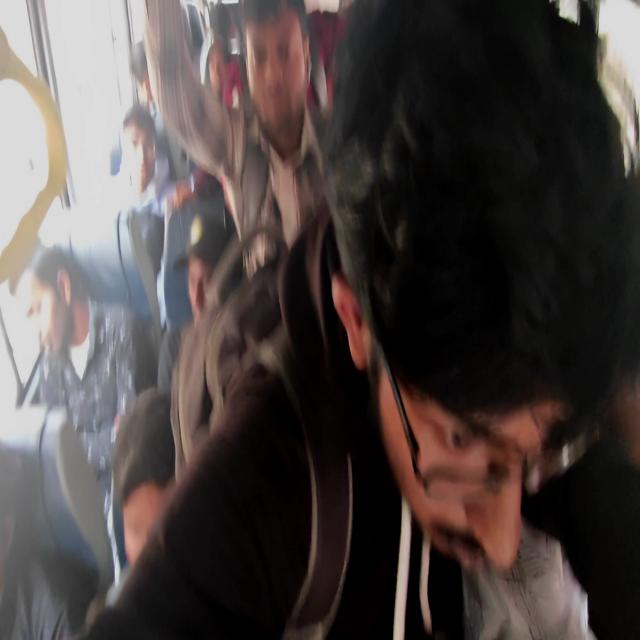person: (331, 61, 604, 574), (0, 398, 75, 623), (18, 239, 132, 364), (121, 428, 195, 560), (250, 0, 306, 126), (187, 238, 237, 338), (122, 123, 162, 210), (126, 49, 159, 97), (206, 50, 235, 102)
